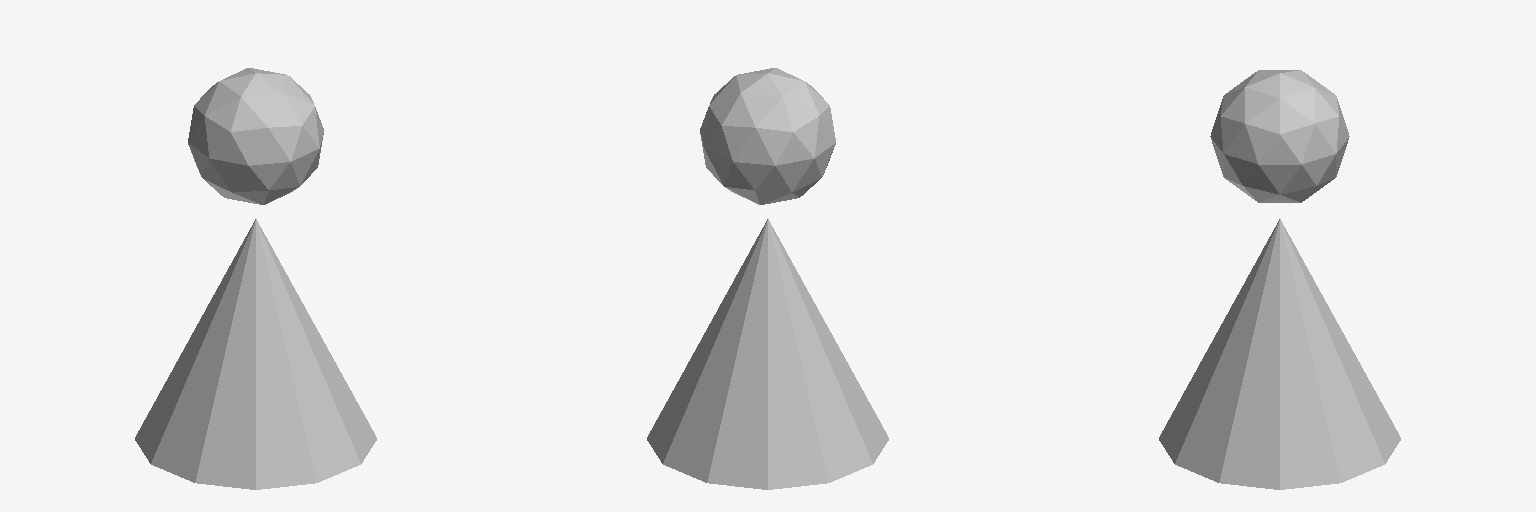
The model's file is ConeLight.obj.
3 views of the same model, side by side, from view 1: azimuth 30°, elevation 25°; view 2: azimuth 150°, elevation 25°; view 3: azimuth 270°, elevation 25° (orthographic).
Visible parts, largest first — view 1: Cone; view 2: Cone; view 3: Cone.
Part boxes in pixels (bbox=[...]): Cone: bbox=[135, 68, 376, 489]; Cone: bbox=[647, 68, 888, 489]; Cone: bbox=[1159, 70, 1400, 489].
Bounding box in the file's own units: 2 × 3.32 × 2.